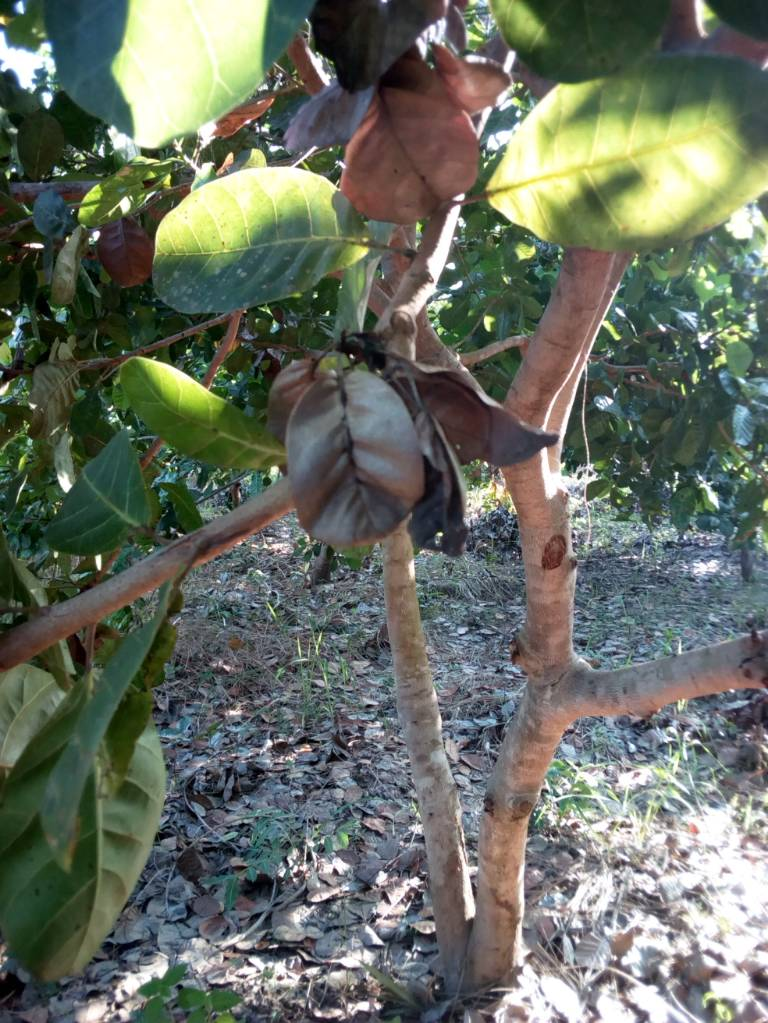Dessèchement des bourgeons: (316, 308, 399, 391)
